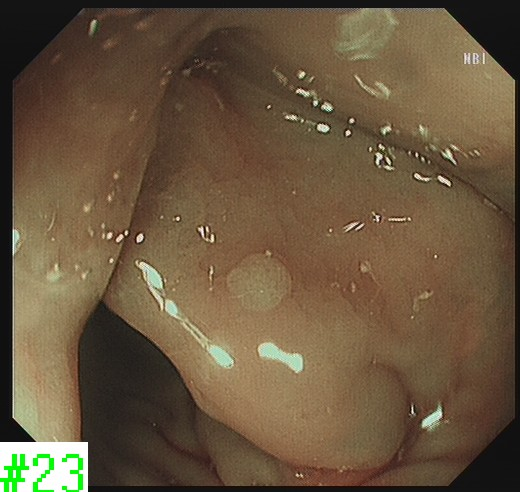others: (224, 250, 298, 313)
